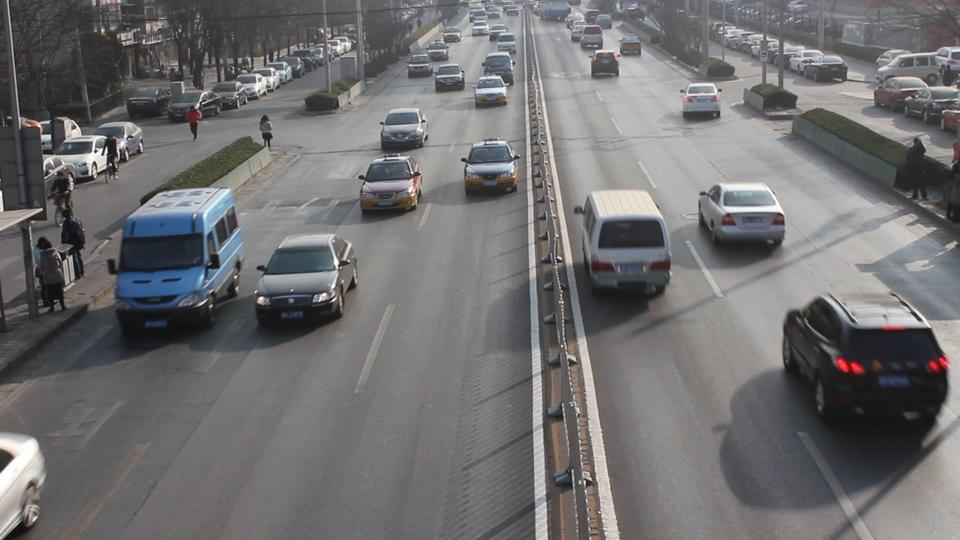Car: (780, 287, 938, 427), (255, 233, 358, 323), (696, 181, 788, 250), (359, 155, 422, 215), (464, 140, 519, 196), (380, 107, 429, 151), (682, 84, 723, 120), (474, 76, 510, 107), (590, 46, 622, 80), (434, 63, 466, 91), (407, 52, 435, 80), (423, 39, 450, 61)
Minivan: (114, 191, 245, 334), (578, 191, 675, 296), (479, 51, 515, 85)
